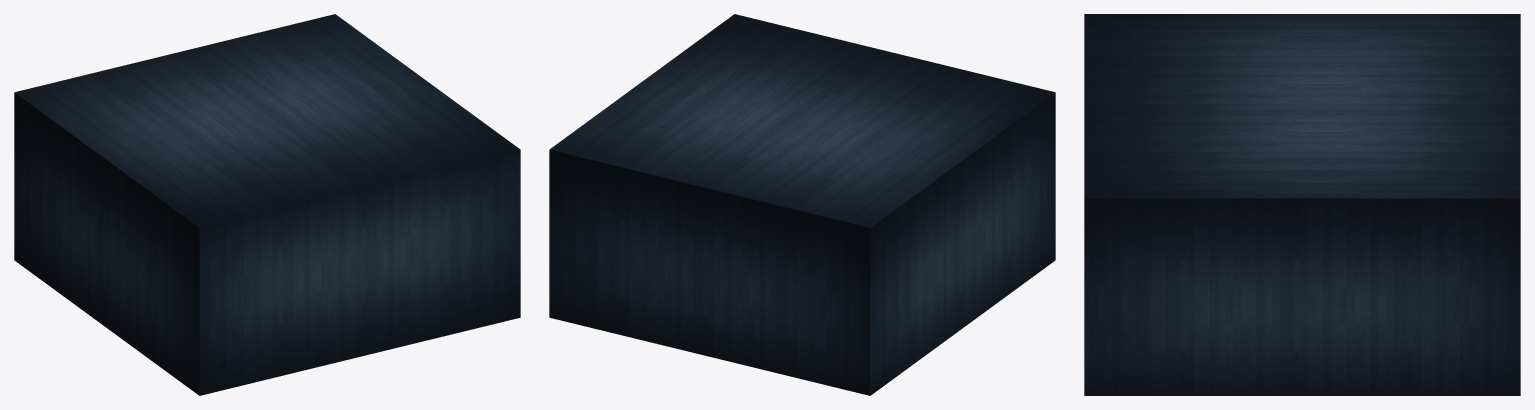
The model's file is room.obj.
3 views of the same model, side by side, from view 1: azimuth 30°, elevation 25°; view 2: azimuth 150°, elevation 25°; view 3: azimuth 270°, elevation 25° (orthographic). The views are drawn at different scales.
Visible parts, largest first — view 1: Cube; view 2: Cube; view 3: Cube.
Boxes of the visible parts, left/top/right/bottom form: Cube: left=14, top=14, right=520, bottom=395; Cube: left=549, top=14, right=1055, bottom=395; Cube: left=1084, top=14, right=1520, bottom=395.
Bounding box in the file's own units: 20 × 10 × 20.
2 materials, 2 textured.
